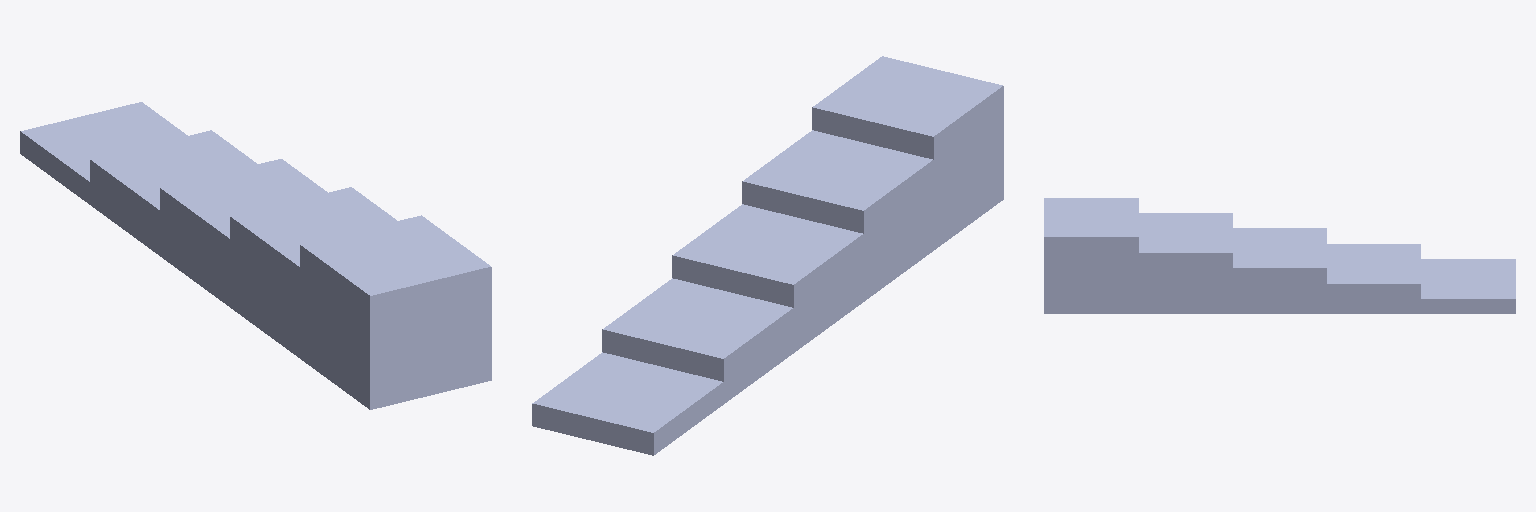
URDF robot description (step_type1.SLDPRT):
<robot
  name="step_type1.SLDPRT">
  <link
    name="step_type1">
    <inertial>
      <origin
        xyz="0.5 -3.1667 0.33"
        rpy="0 0 0" />
      <mass
        value="2700" />
      <inertia
        ixx="4568.37"
        ixy="-5.55111512312578E-14"
        ixz="-3.39896542528966E-30"
        iyy="368.37"
        iyz="378"
        izz="4650" />
    </inertial>
    <visual>
      <origin
        xyz="0 0 0"
        rpy="1.5707963267949 0 0" />
      <geometry>
        <mesh
          filename="package://step_type1/meshes/step_type1.STL" />
      </geometry>
      <material
        name="">
        <color
          rgba="0.79216 0.81961 0.93333 1" />
      </material>
    </visual>
    <collision>
      <origin
        xyz="0 0 0"
        rpy="1.5707963267949 0 0" />
      <geometry>
        <mesh
          filename="package://step_type1/meshes/step_type1.STL" />
      </geometry>
    </collision>
  </link>
</robot>

--- What the picture shows (computed from the rendered views, not written in the file) ---
The picture shows the robot from 3 angles, left to right: view 1: azimuth 30°, elevation 25°; view 2: azimuth 150°, elevation 25°; view 3: azimuth 270°, elevation 25°; orthographic projection.
Model step_type1.SLDPRT with 1 links and 0 joints (none), rooted at step_type1, posed all joints at 0.
Visible links, largest first — view 1: step_type1; view 2: step_type1; view 3: step_type1.
Boxes of the visible links, x1=… form: step_type1: x1=20, y1=102, x2=491, y2=409; step_type1: x1=532, y1=56, x2=1003, y2=455; step_type1: x1=1044, y1=198, x2=1515, y2=313.
Size in the robot's own frame: 1 by 5 by 0.9 metres.
Meshes: 1 distinct files referenced, 1 mesh visuals loaded (1 binary STL).